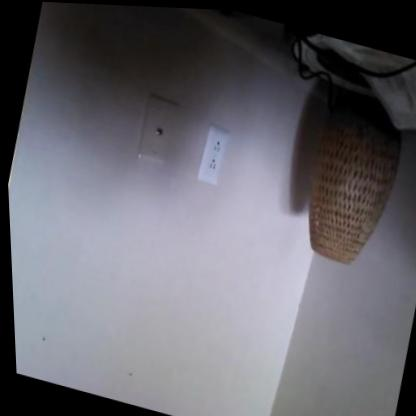OUTLET: (195, 126, 232, 188)
